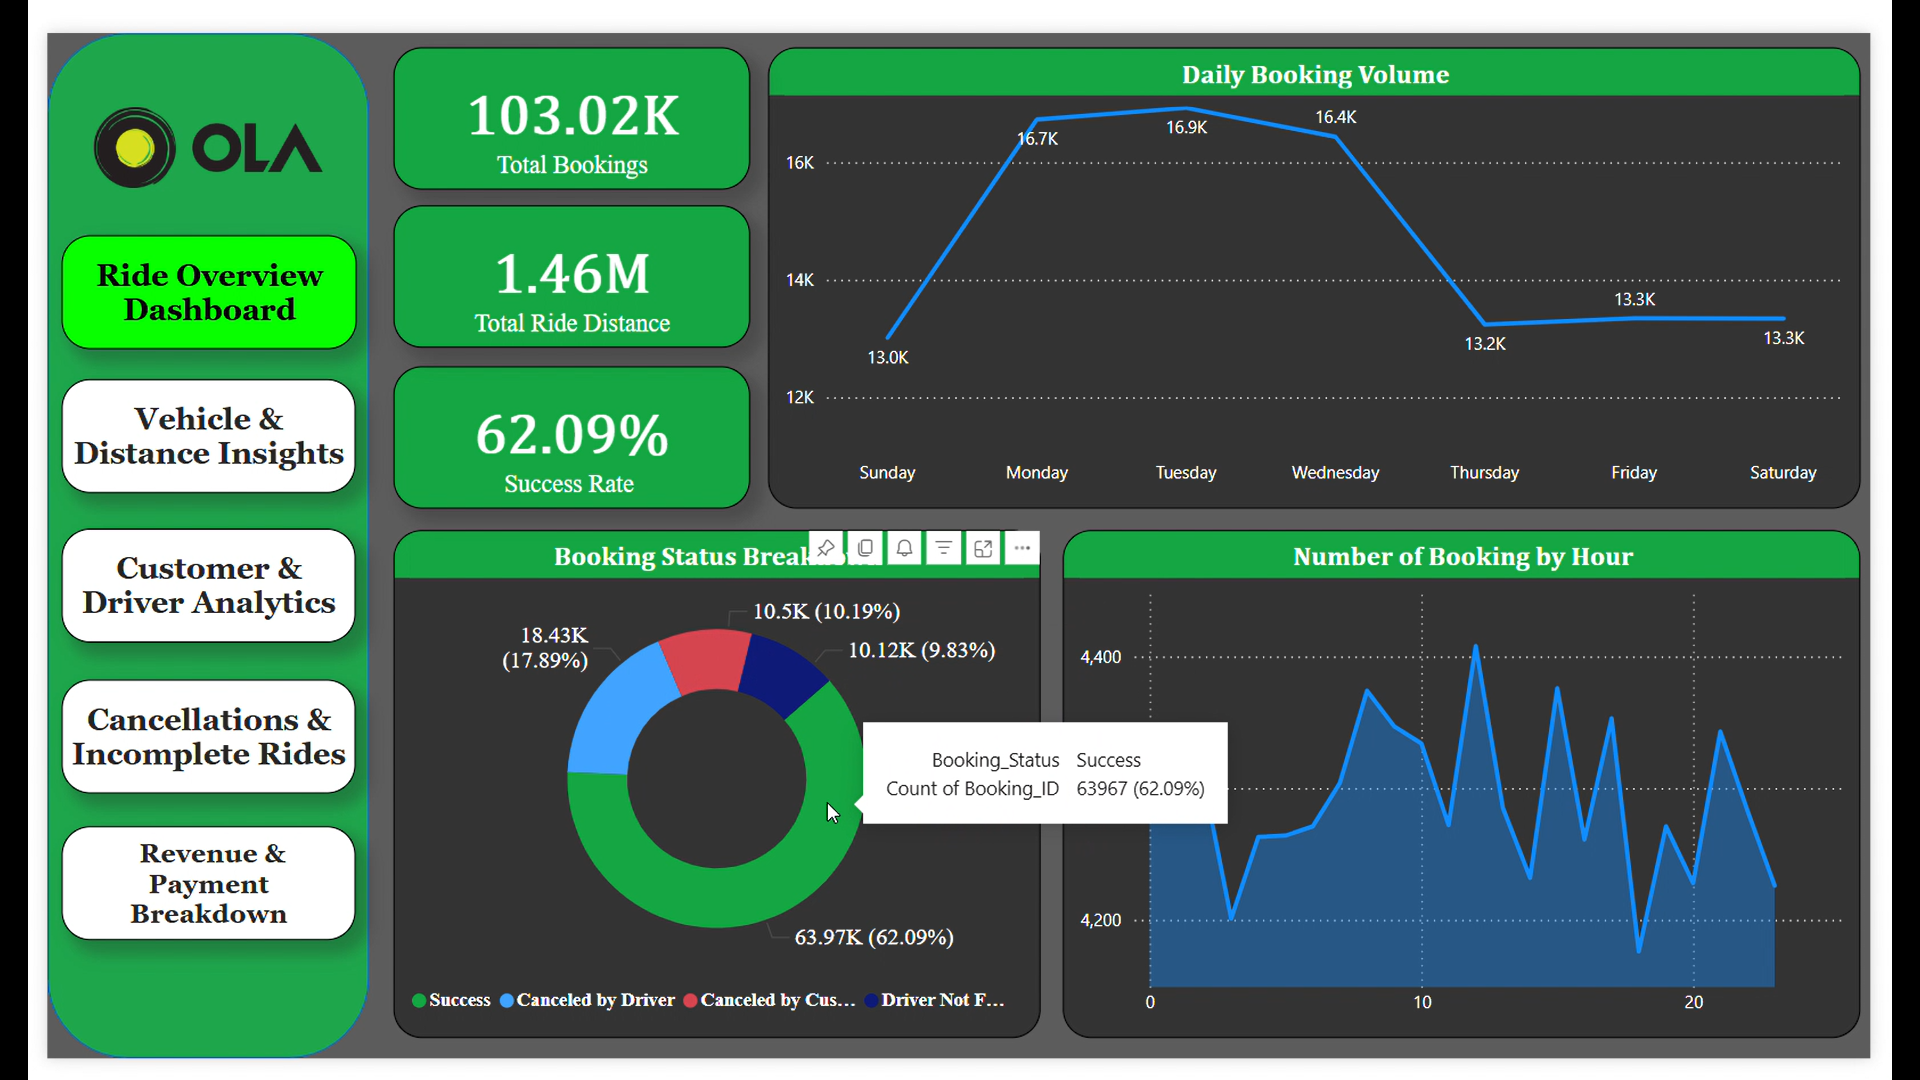

The dashboard page shown, as its layout file describes it:
{"tool":"powerbi","page":{"name":"Ride Overview","canvas":[1280,720],"ordinal":0},"visuals":[{"type":"shape","box":[0,0,225.7,720],"z":0},{"type":"image","box":[27.1,28.3,171.1,103.4],"z":1000},{"type":"textbox","box":[10.1,141.7,206.6,80.5],"z":2000},{"type":"textbox","box":[10,242.6,206.3,80.1],"z":3000},{"type":"textbox","box":[10,348.1,206.3,80.1],"z":4000},{"type":"textbox","box":[10,453.7,206.3,80.1],"z":5000},{"type":"textbox","box":[10,556.5,206.3,80.1],"z":6000},{"type":"actionButton","box":[10,348.6,205.7,80],"z":7000},{"type":"actionButton","box":[10,242.9,205.7,80],"z":8000},{"type":"actionButton","box":[10,454.3,205.7,80],"z":9000},{"type":"actionButton","box":[10,557.1,205.7,80],"z":10000},{"type":"lineChart","title":"Daily Booking Volume","fields":{"Y":["CountNonNull(July.Booking_ID)"],"Category":["July.Day Name"]},"box":[505.7,10,767.1,324.3],"z":11000},{"type":"donutChart","title":"Booking Status Breakdown","fields":{"Y":["CountNonNull(July.Booking_ID)"],"Category":["July.Booking_Status"]},"box":[242.9,348.6,454.3,357.1],"z":12000},{"type":"areaChart","title":"Number of Booking by Hour","fields":{"Category":["July.Hour"],"Y":["CountNonNull(July.Booking_ID)"]},"box":[712.9,348.6,560,357.1],"z":13000},{"type":"card","fields":{"Values":["CountNonNull(July.Booking_ID)"]},"box":[242.9,10,250,100],"z":14000},{"type":"card","fields":{"Values":["July.Measure"]},"box":[242.9,234.3,250,100],"z":15000},{"type":"card","fields":{"Values":["Sum(July.Ride_Distance)"]},"box":[242.9,121.4,250,100],"z":16000}]}

Visuals, with their boxes in screenshot pixels (x1, y1, x2, y2), scaled from the page's 1280x720 canvas onto the 1920x1080 screenshot:
shape: bbox=[0, 0, 339, 1079]
image: bbox=[41, 42, 297, 198]
textbox: bbox=[15, 213, 325, 333]
textbox: bbox=[15, 364, 324, 484]
textbox: bbox=[15, 522, 324, 642]
textbox: bbox=[15, 681, 324, 801]
textbox: bbox=[15, 835, 324, 955]
actionButton: bbox=[15, 523, 324, 643]
actionButton: bbox=[15, 364, 324, 484]
actionButton: bbox=[15, 681, 324, 801]
actionButton: bbox=[15, 836, 324, 956]
"Daily Booking Volume" lineChart: bbox=[759, 15, 1909, 501]
"Booking Status Breakdown" donutChart: bbox=[364, 523, 1046, 1059]
"Number of Booking by Hour" areaChart: bbox=[1069, 523, 1909, 1059]
card - CountNonNull(July.Booking_ID): bbox=[364, 15, 739, 165]
card - July.Measure: bbox=[364, 351, 739, 501]
card - Sum(July.Ride_Distance): bbox=[364, 182, 739, 332]
